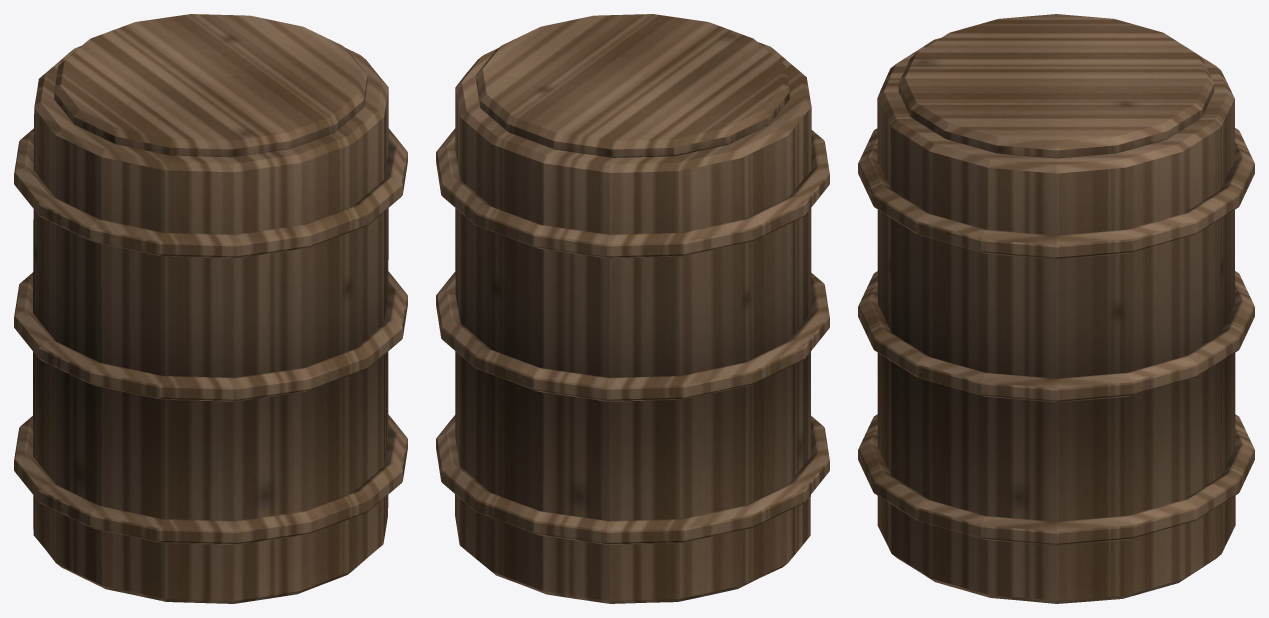
File: p_barrel.hi.glb
3 views of the same model, side by side, from view 1: azimuth 30°, elevation 25°; view 2: azimuth 150°, elevation 25°; view 3: azimuth 270°, elevation 25° (orthographic).
Parts seen in each view (by area): view 1: barrel; view 2: barrel; view 3: barrel.
Part boxes in pixels (left/top/right/bottom): barrel: left=14, top=14, right=407, bottom=603; barrel: left=436, top=14, right=829, bottom=603; barrel: left=858, top=14, right=1254, bottom=603.
Bounding box in the file's own units: 0.7539 × 0.9507 × 0.7539.
1 material, 1 textured.
